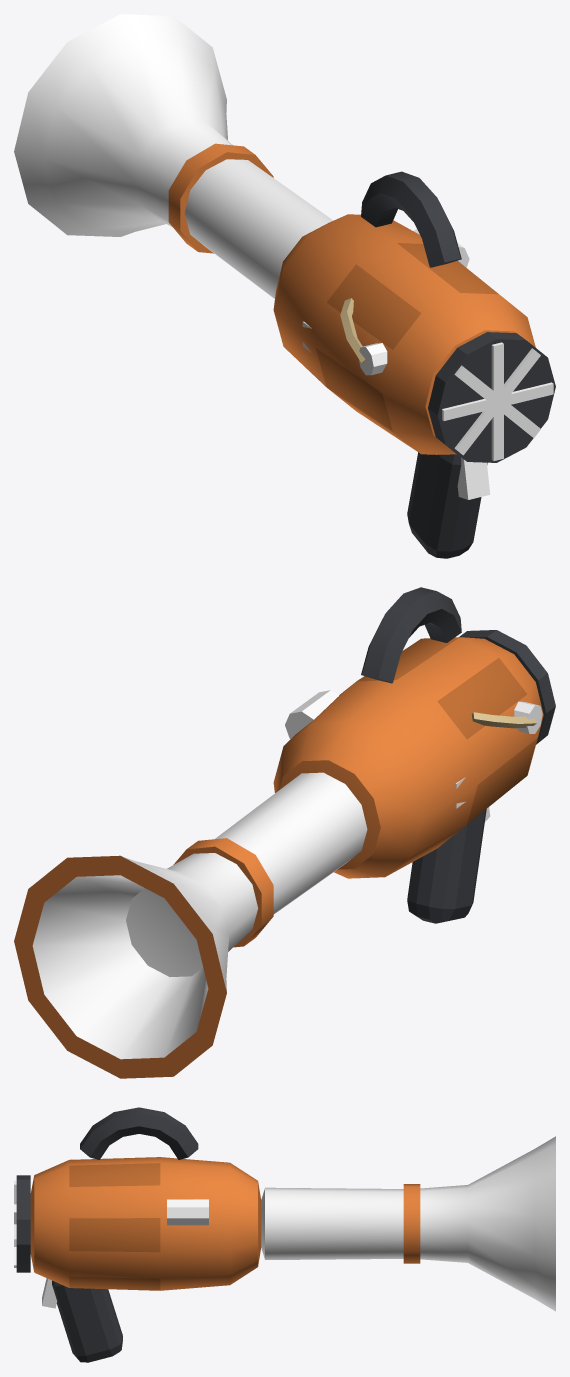
File: leaf_blower.glb
The picture shows the model from 3 angles, top to bottom: view 1: azimuth 30°, elevation 25°; view 2: azimuth 150°, elevation 25°; view 3: azimuth 270°, elevation 25°; orthographic projection. The views are drawn at different scales.
Parts seen in each view (by area): view 1: LeafBlower; view 2: LeafBlower; view 3: LeafBlower.
Boxes of the visible parts, x1=… form: LeafBlower: x1=14, y1=14, x2=555, y2=558; LeafBlower: x1=14, y1=587, x2=555, y2=1078; LeafBlower: x1=14, y1=1107, x2=555, y2=1362.
Bounding box in the file's own units: 0.252 × 0.3938 × 0.775.
